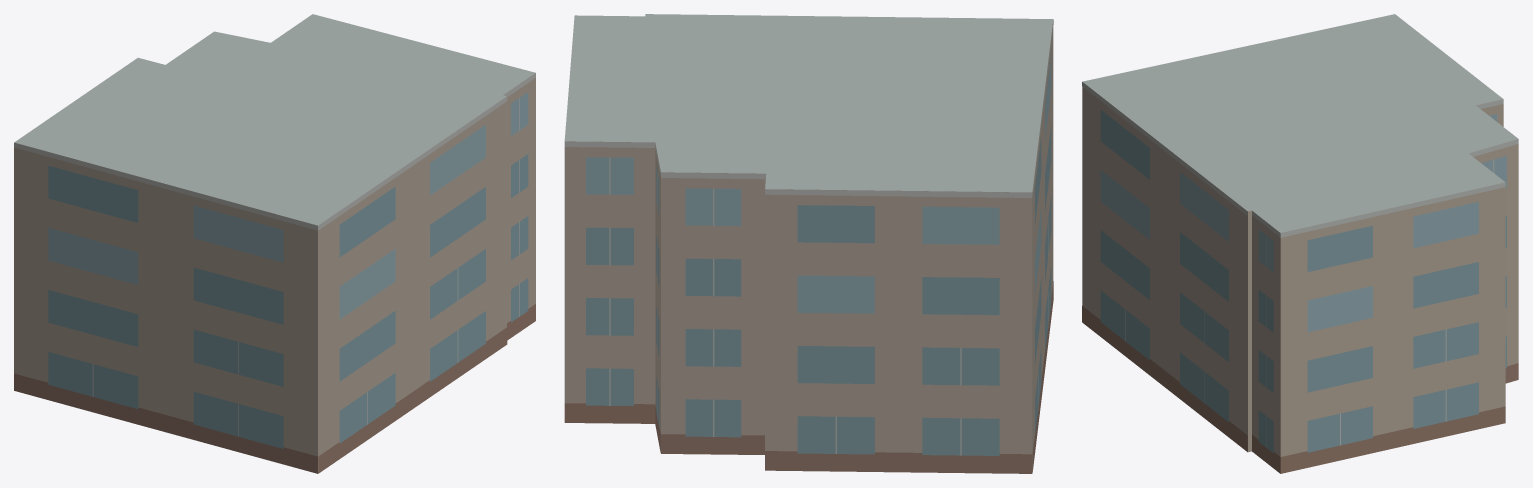
File: survey-upis-32863831.glb
3 renders of one model, left to right at view 1: azimuth 30°, elevation 25°; view 2: azimuth 150°, elevation 25°; view 3: azimuth 270°, elevation 25°, orthographic. The views are drawn at different scales.
Visible parts, largest first — view 1: survey-upis-32863831.tmp; view 2: survey-upis-32863831.tmp; view 3: survey-upis-32863831.tmp.
Boxes of the visible parts, <box> form: survey-upis-32863831.tmp: <box>14,14,535,473</box>; survey-upis-32863831.tmp: <box>564,14,1053,473</box>; survey-upis-32863831.tmp: <box>1082,14,1518,473</box>.
Bounding box in the file's own units: 23.81 × 12.2 × 20.05.
